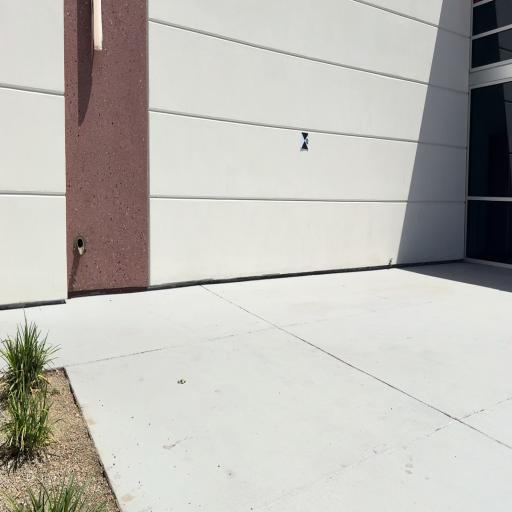target0: (300, 132, 309, 150)
